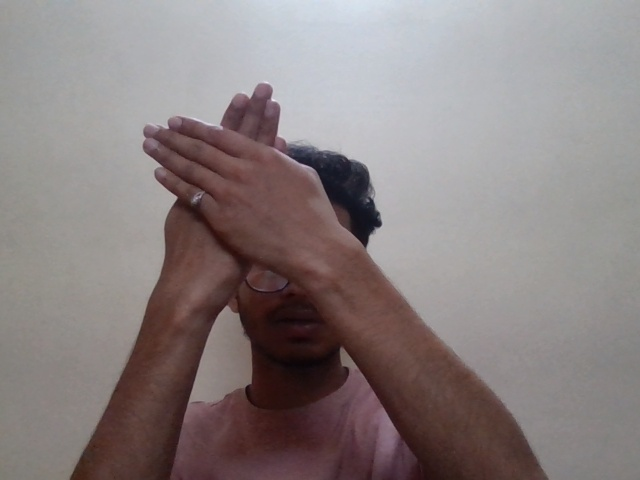what: (117, 79, 344, 287)
